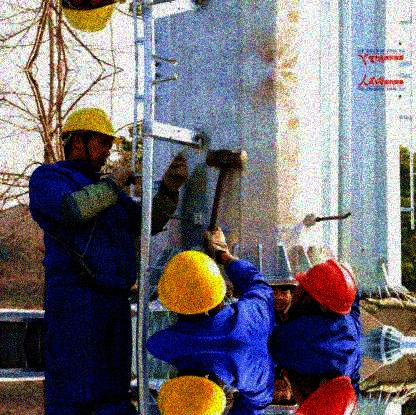helmet: (289, 260, 361, 315), (60, 107, 119, 168)
